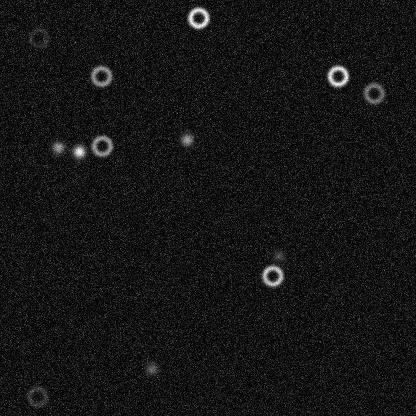Ring: (325, 63, 349, 87), (260, 263, 284, 287), (89, 133, 113, 157), (25, 384, 49, 408), (89, 63, 113, 87), (361, 81, 385, 105), (186, 5, 210, 29), (26, 25, 50, 49)
Spot: (178, 131, 194, 147), (270, 248, 286, 264), (70, 143, 86, 159), (143, 360, 159, 376), (50, 139, 66, 155)
